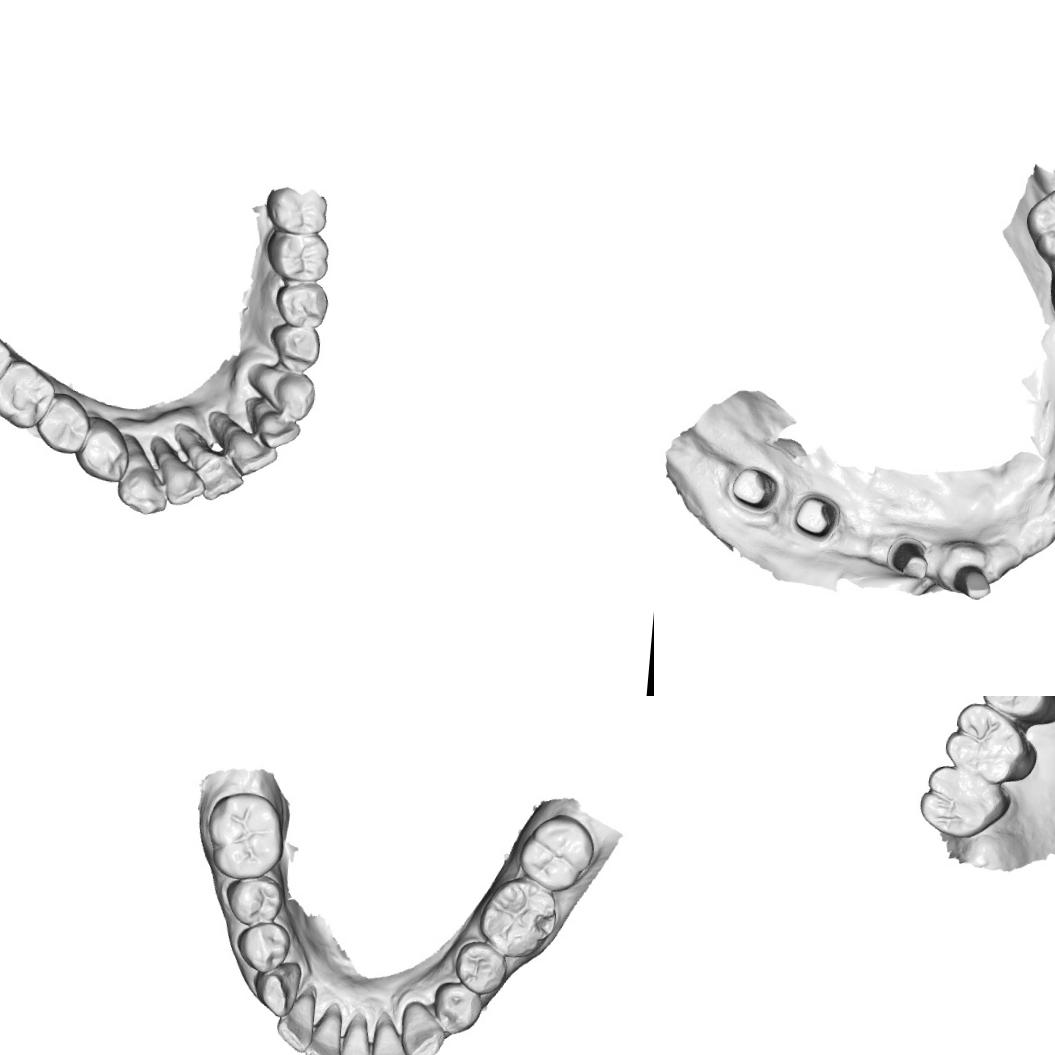abutment: (790, 486, 843, 544), (727, 461, 781, 516), (948, 554, 994, 604), (887, 535, 933, 582)
canine: (112, 431, 172, 516), (243, 359, 318, 420), (250, 958, 303, 1018), (396, 997, 447, 1055)
incisor: (185, 444, 248, 502), (156, 448, 209, 506), (222, 426, 280, 478), (274, 988, 316, 1052), (250, 405, 303, 452), (302, 1001, 346, 1055), (367, 1008, 416, 1055), (335, 1008, 378, 1055)
molar: (941, 699, 1041, 787), (201, 788, 288, 883), (916, 762, 1012, 843), (474, 872, 559, 961), (515, 810, 591, 884), (263, 227, 333, 287), (0, 357, 55, 431), (263, 180, 329, 236), (1021, 179, 1055, 266), (0, 319, 16, 397)
premolar: (70, 413, 134, 485), (32, 390, 93, 455), (220, 870, 286, 928), (233, 918, 292, 975), (451, 938, 508, 996), (429, 978, 484, 1038), (266, 320, 323, 373), (272, 277, 330, 328), (978, 696, 1055, 728)
